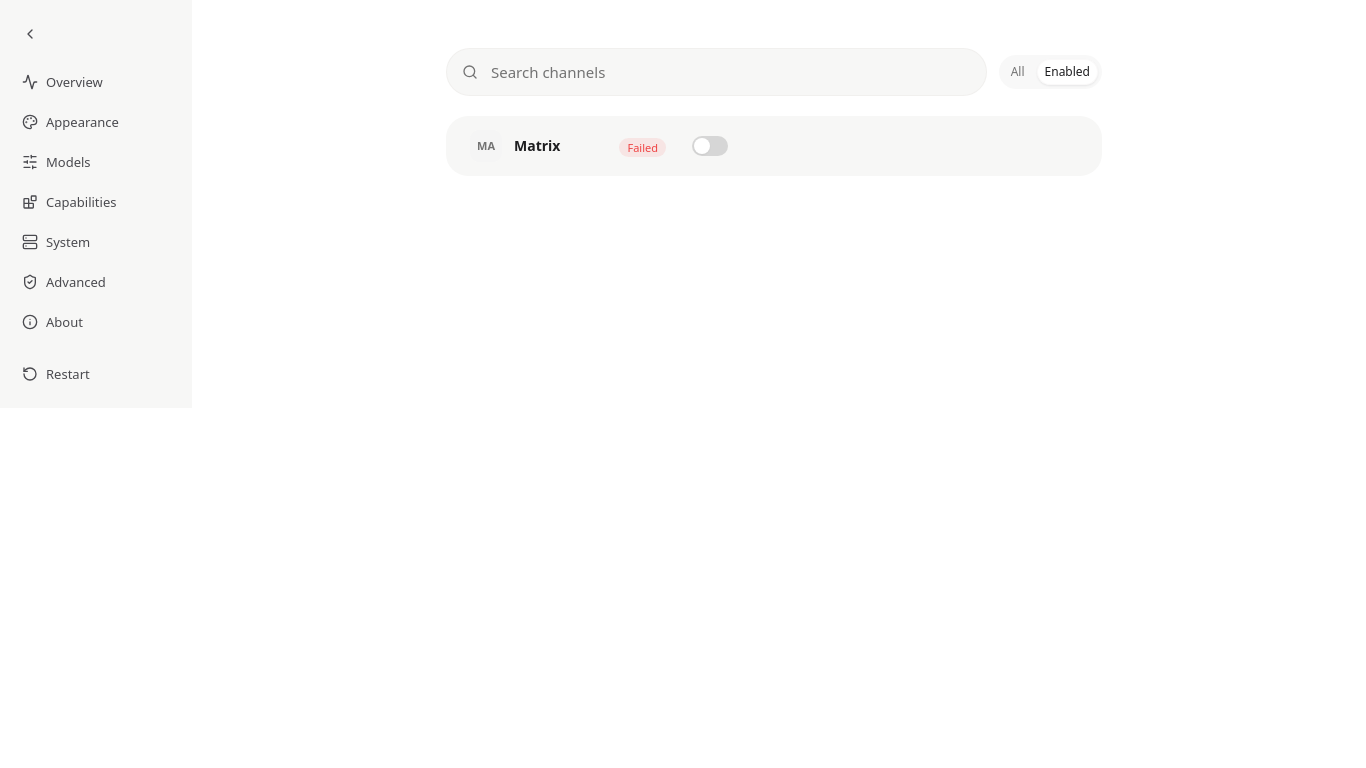
Test: Settings channels › shows a configured channel as failed when its runtime did not start
Click the button with aria-label "View Matrix settings": (539, 146) [470,130,608,162]
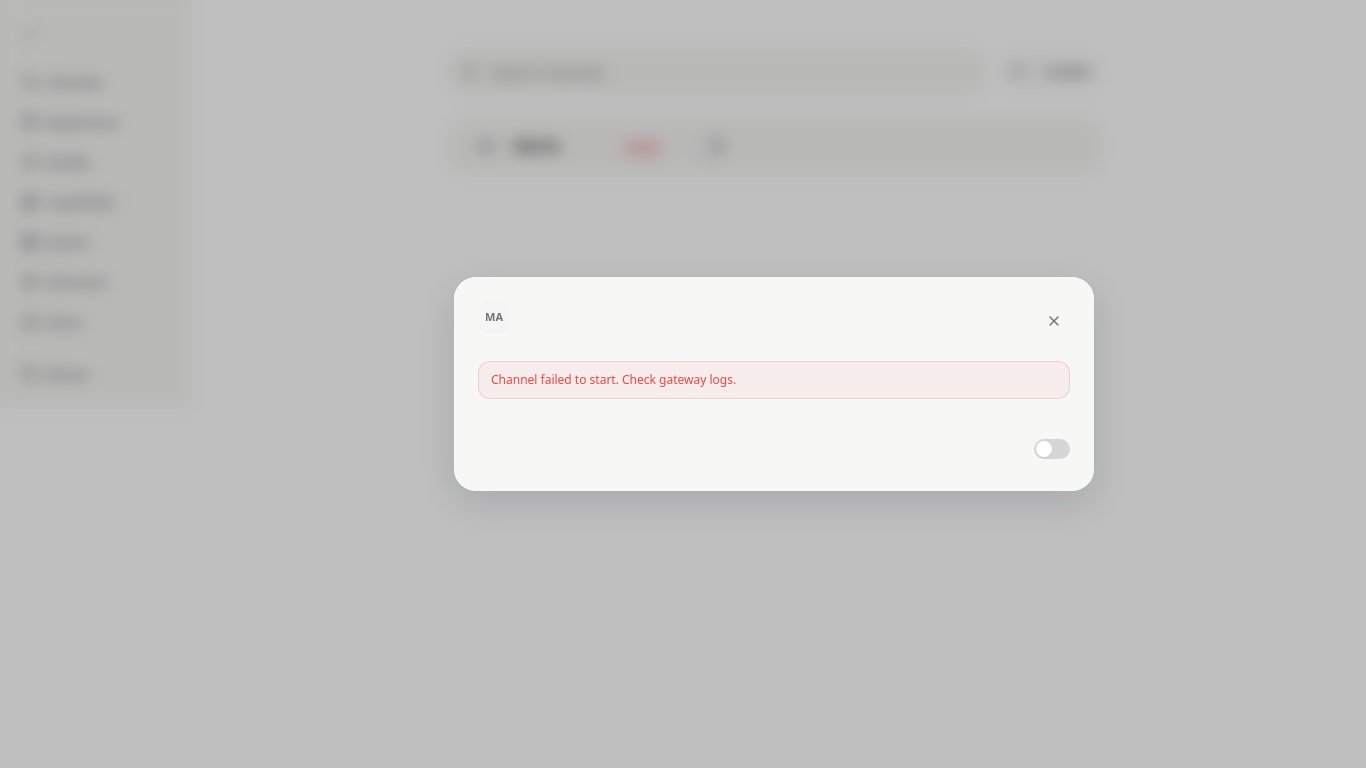
Now the text "Channel failed to start. Check gateway logs." is shown, box [478,361,1070,399]
